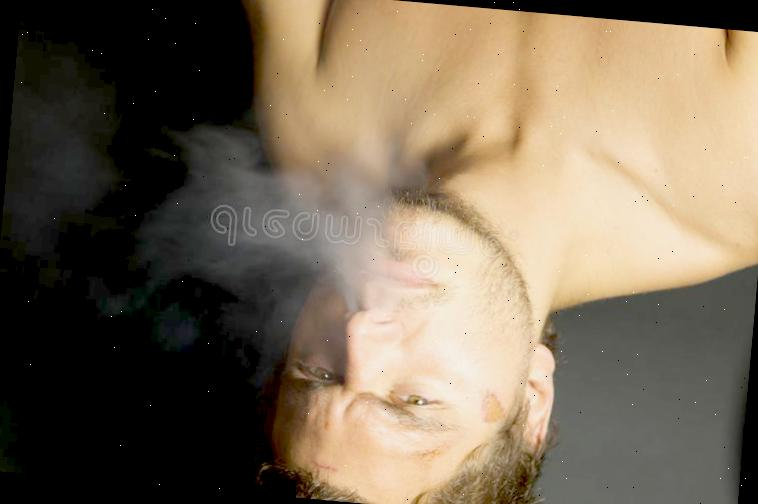smoke: (182, 159, 397, 294)
